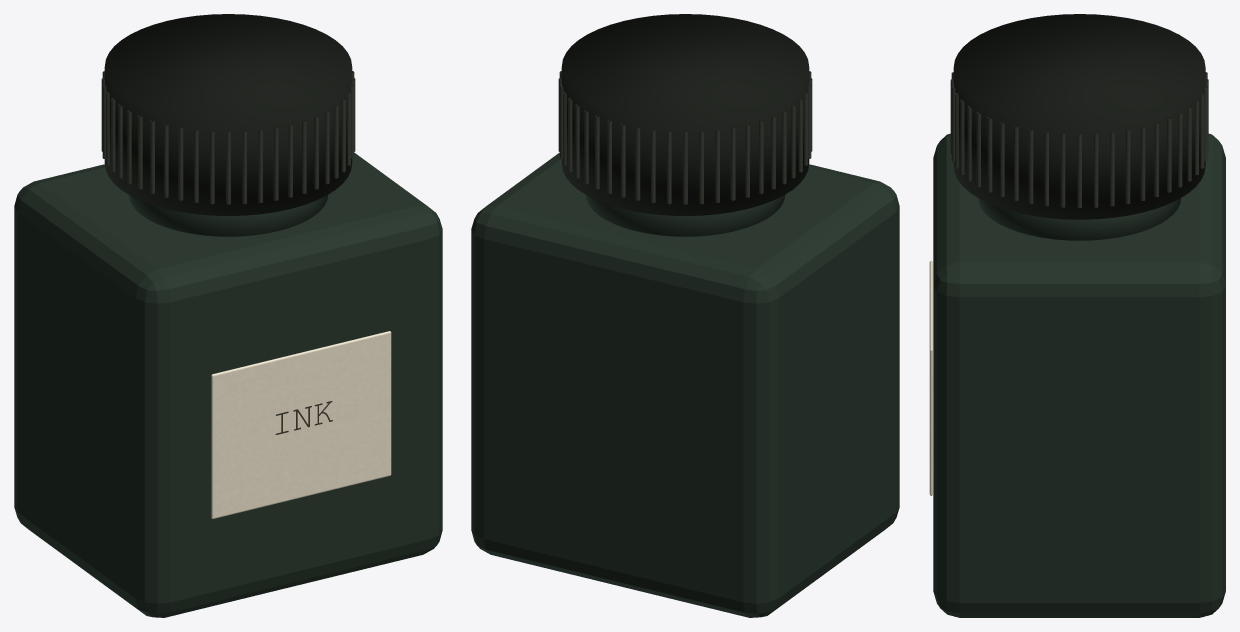
The model's file is ink.glb.
The picture shows the model from 3 angles, left to right: view 1: azimuth 30°, elevation 25°; view 2: azimuth 150°, elevation 25°; view 3: azimuth 270°, elevation 25°; orthographic projection.
Visible parts, largest first — view 1: EXPORT_Bevelled green glass bottle, EXPORT_Ribbed ink cap, EXPORT_Ink paper label, EXPORT_Cap fine rib; view 2: EXPORT_Bevelled green glass bottle, EXPORT_Ribbed ink cap, EXPORT_Cap fine rib; view 3: EXPORT_Bevelled green glass bottle, EXPORT_Ribbed ink cap, EXPORT_Cap fine rib, EXPORT_Ink paper label.
Boxes of the visible parts, x1,y1,x2,y2 form: EXPORT_Bevelled green glass bottle: (14,153,442,617); EXPORT_Ribbed ink cap: (104,14,352,215); EXPORT_Ink paper label: (211,331,391,518); EXPORT_Cap fine rib: (101,71,355,204); EXPORT_Bevelled green glass bottle: (471,153,899,617); EXPORT_Ribbed ink cap: (561,14,809,215); EXPORT_Cap fine rib: (558,71,812,204); EXPORT_Bevelled green glass bottle: (933,133,1225,617); EXPORT_Ribbed ink cap: (953,14,1205,219); EXPORT_Cap fine rib: (950,72,1208,208); EXPORT_Ink paper label: (929,260,932,495).
Bounding box in the file's own units: 0.88 × 1.31 × 0.733.
5 materials, 1 textured.
